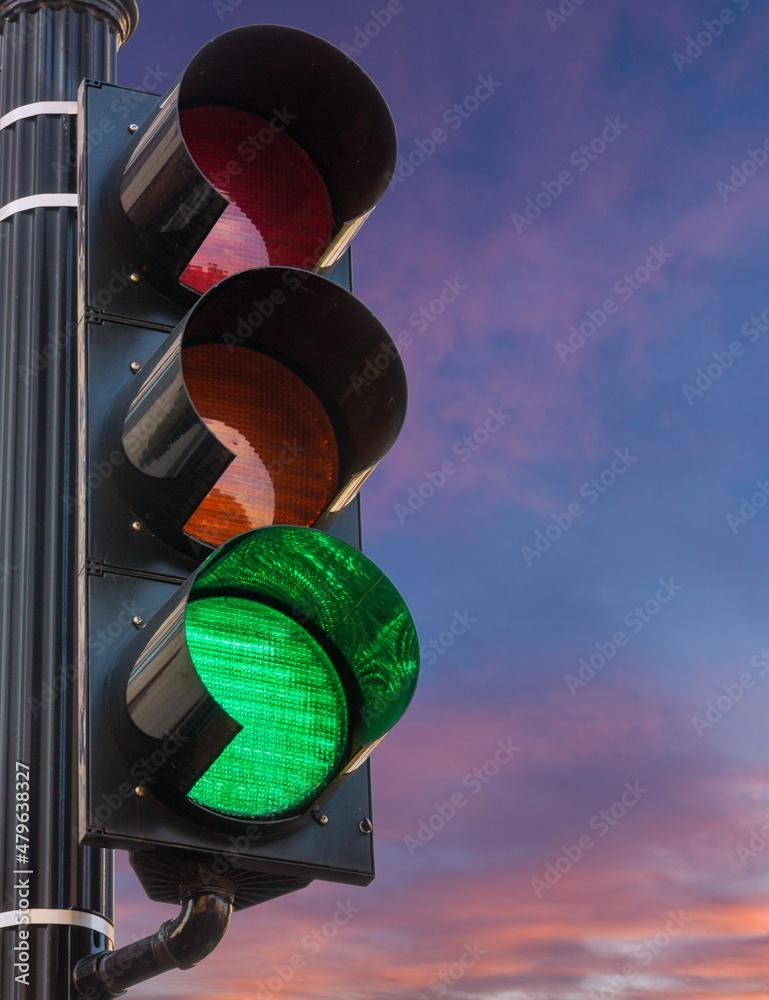green: (67, 0, 488, 922)
